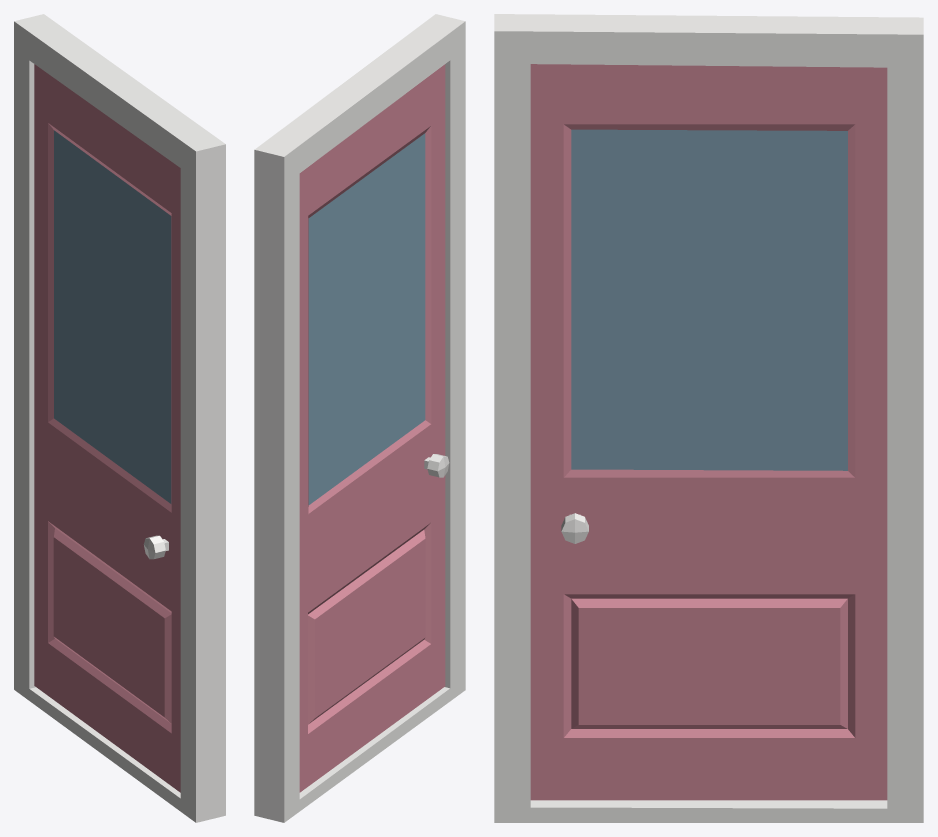
The model's file is Door_3.fbx.
The picture shows the model from 3 angles, left to right: view 1: azimuth 30°, elevation 25°; view 2: azimuth 150°, elevation 25°; view 3: azimuth 270°, elevation 25°; orthographic projection. The views are drawn at different scales.
Parts seen in each view (by area): view 1: Door_3; view 2: Door_3; view 3: Door_3.
Boxes of the visible parts, left/top/right/bottom form: Door_3: left=14, top=14, right=225, bottom=822; Door_3: left=254, top=14, right=465, bottom=822; Door_3: left=494, top=14, right=923, bottom=822.
Bounding box in the file's own units: 29.18 × 164 × 335.
